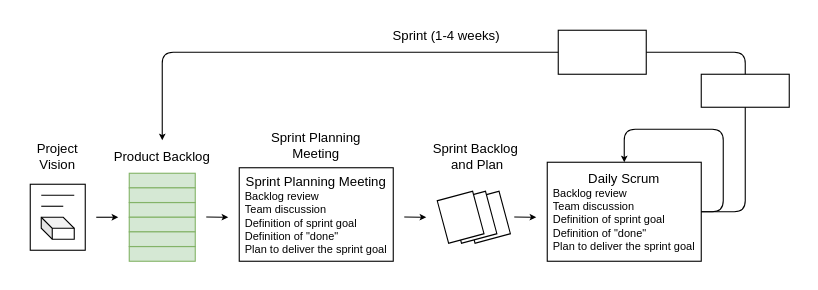
Image size: 818x290. Some labels were removed from this diagram. The box of each missing label's shape, as (x1, y1, x2, y2) in pixels:
Sprint Retrospective: (557, 29, 646, 74)
Sprint Review: (700, 73, 789, 107)
